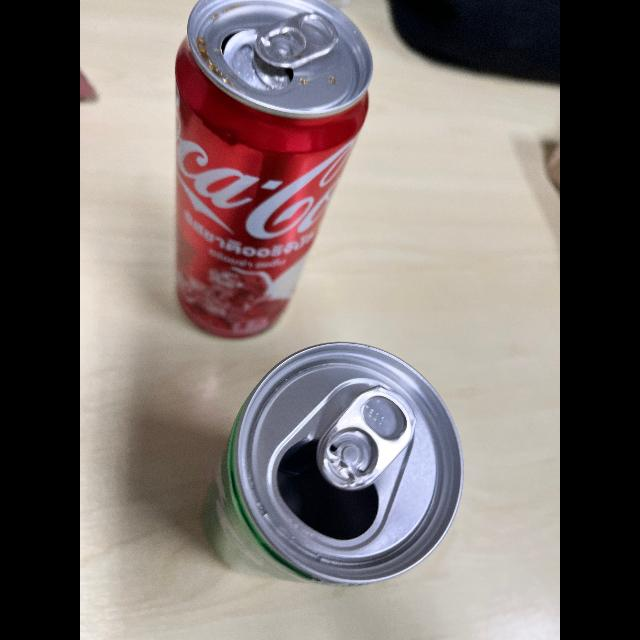can: (163, 0, 383, 348), (198, 334, 474, 588)
